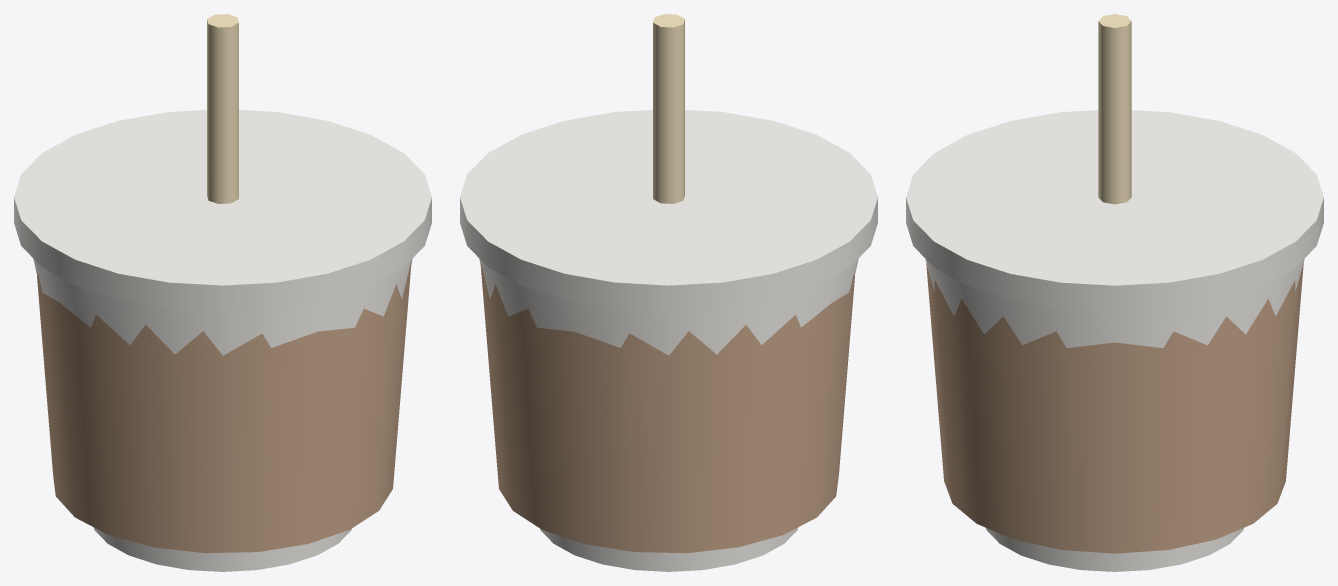
Rendered from boba-cup.glb.
3 views of the same model, side by side, from view 1: azimuth 30°, elevation 25°; view 2: azimuth 150°, elevation 25°; view 3: azimuth 270°, elevation 25° (orthographic).
Size of the model in its own units: 0.88 by 1.15 by 0.88.
